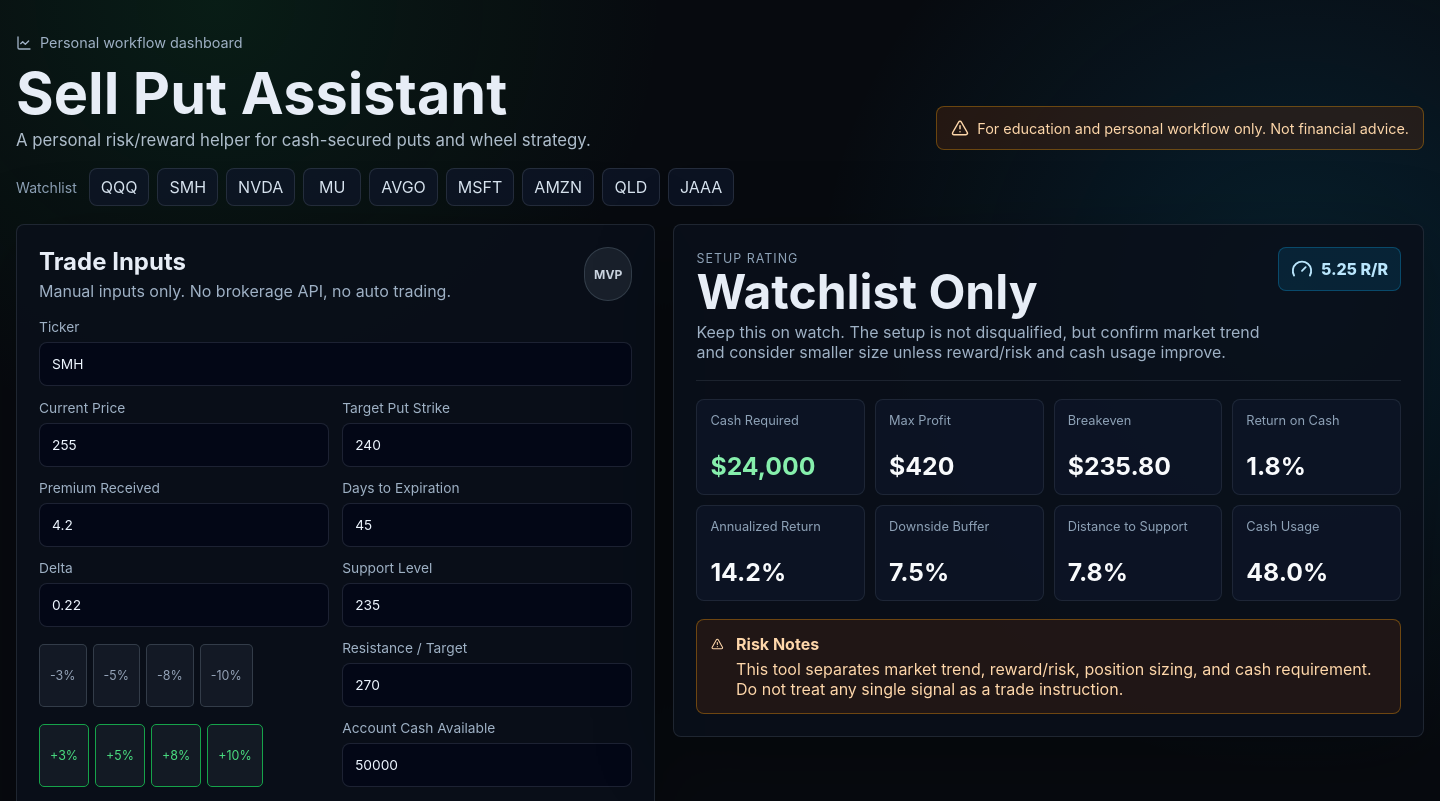
Test: App › shows aggressive risk language after increasing delta
Replace the text in the number field labelled "Delta" with "0.42": (184, 605) [39,583,329,627]
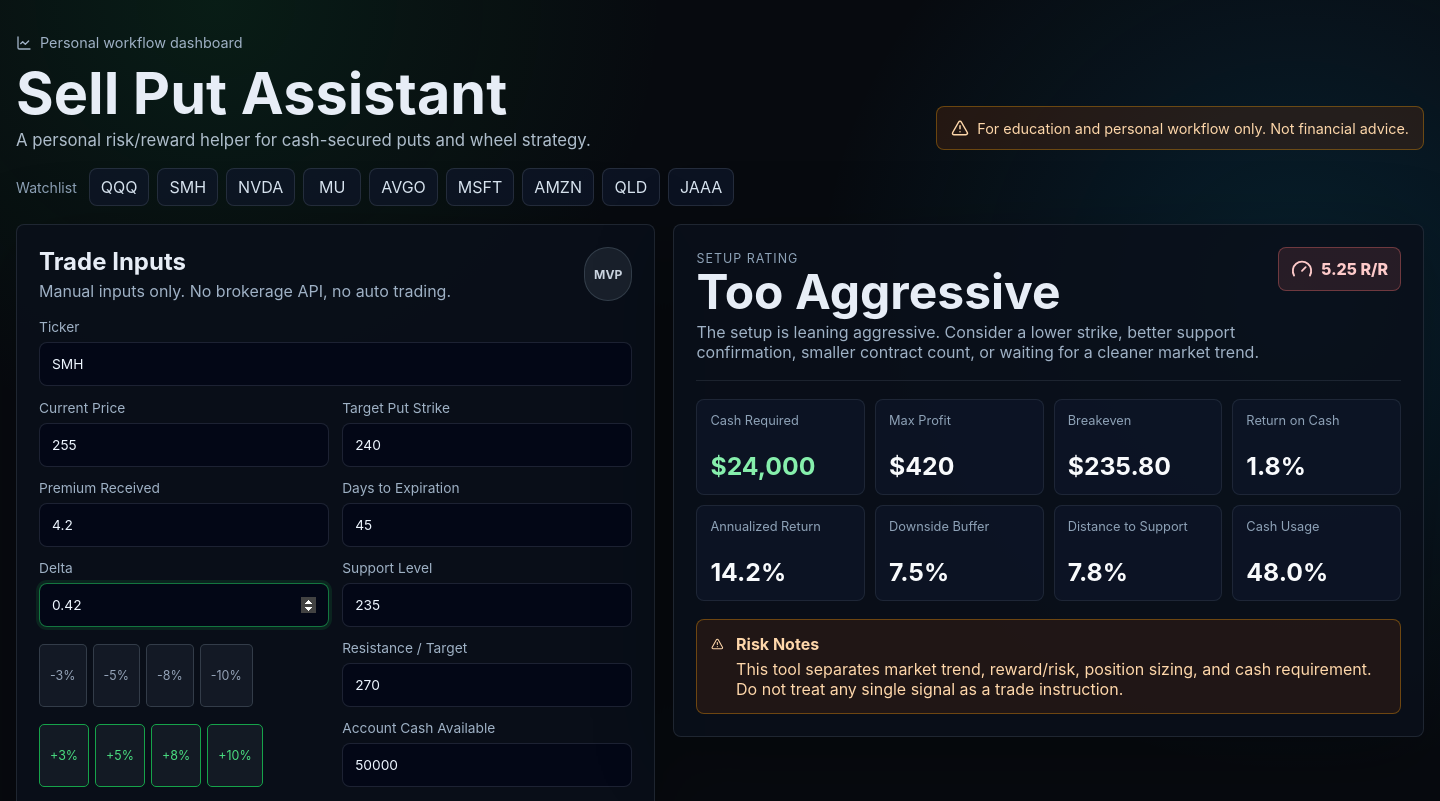
Now the heading "Too Aggressive" is shown, box [696,262,1061,321]
